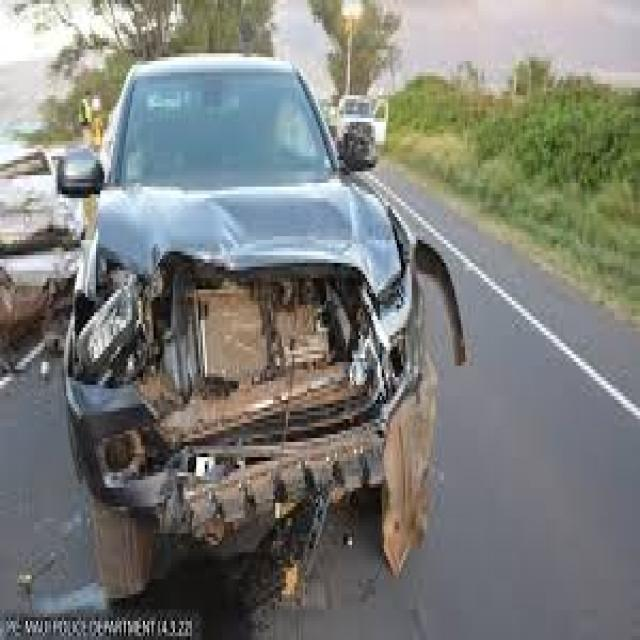accident: (49, 52, 451, 580)
